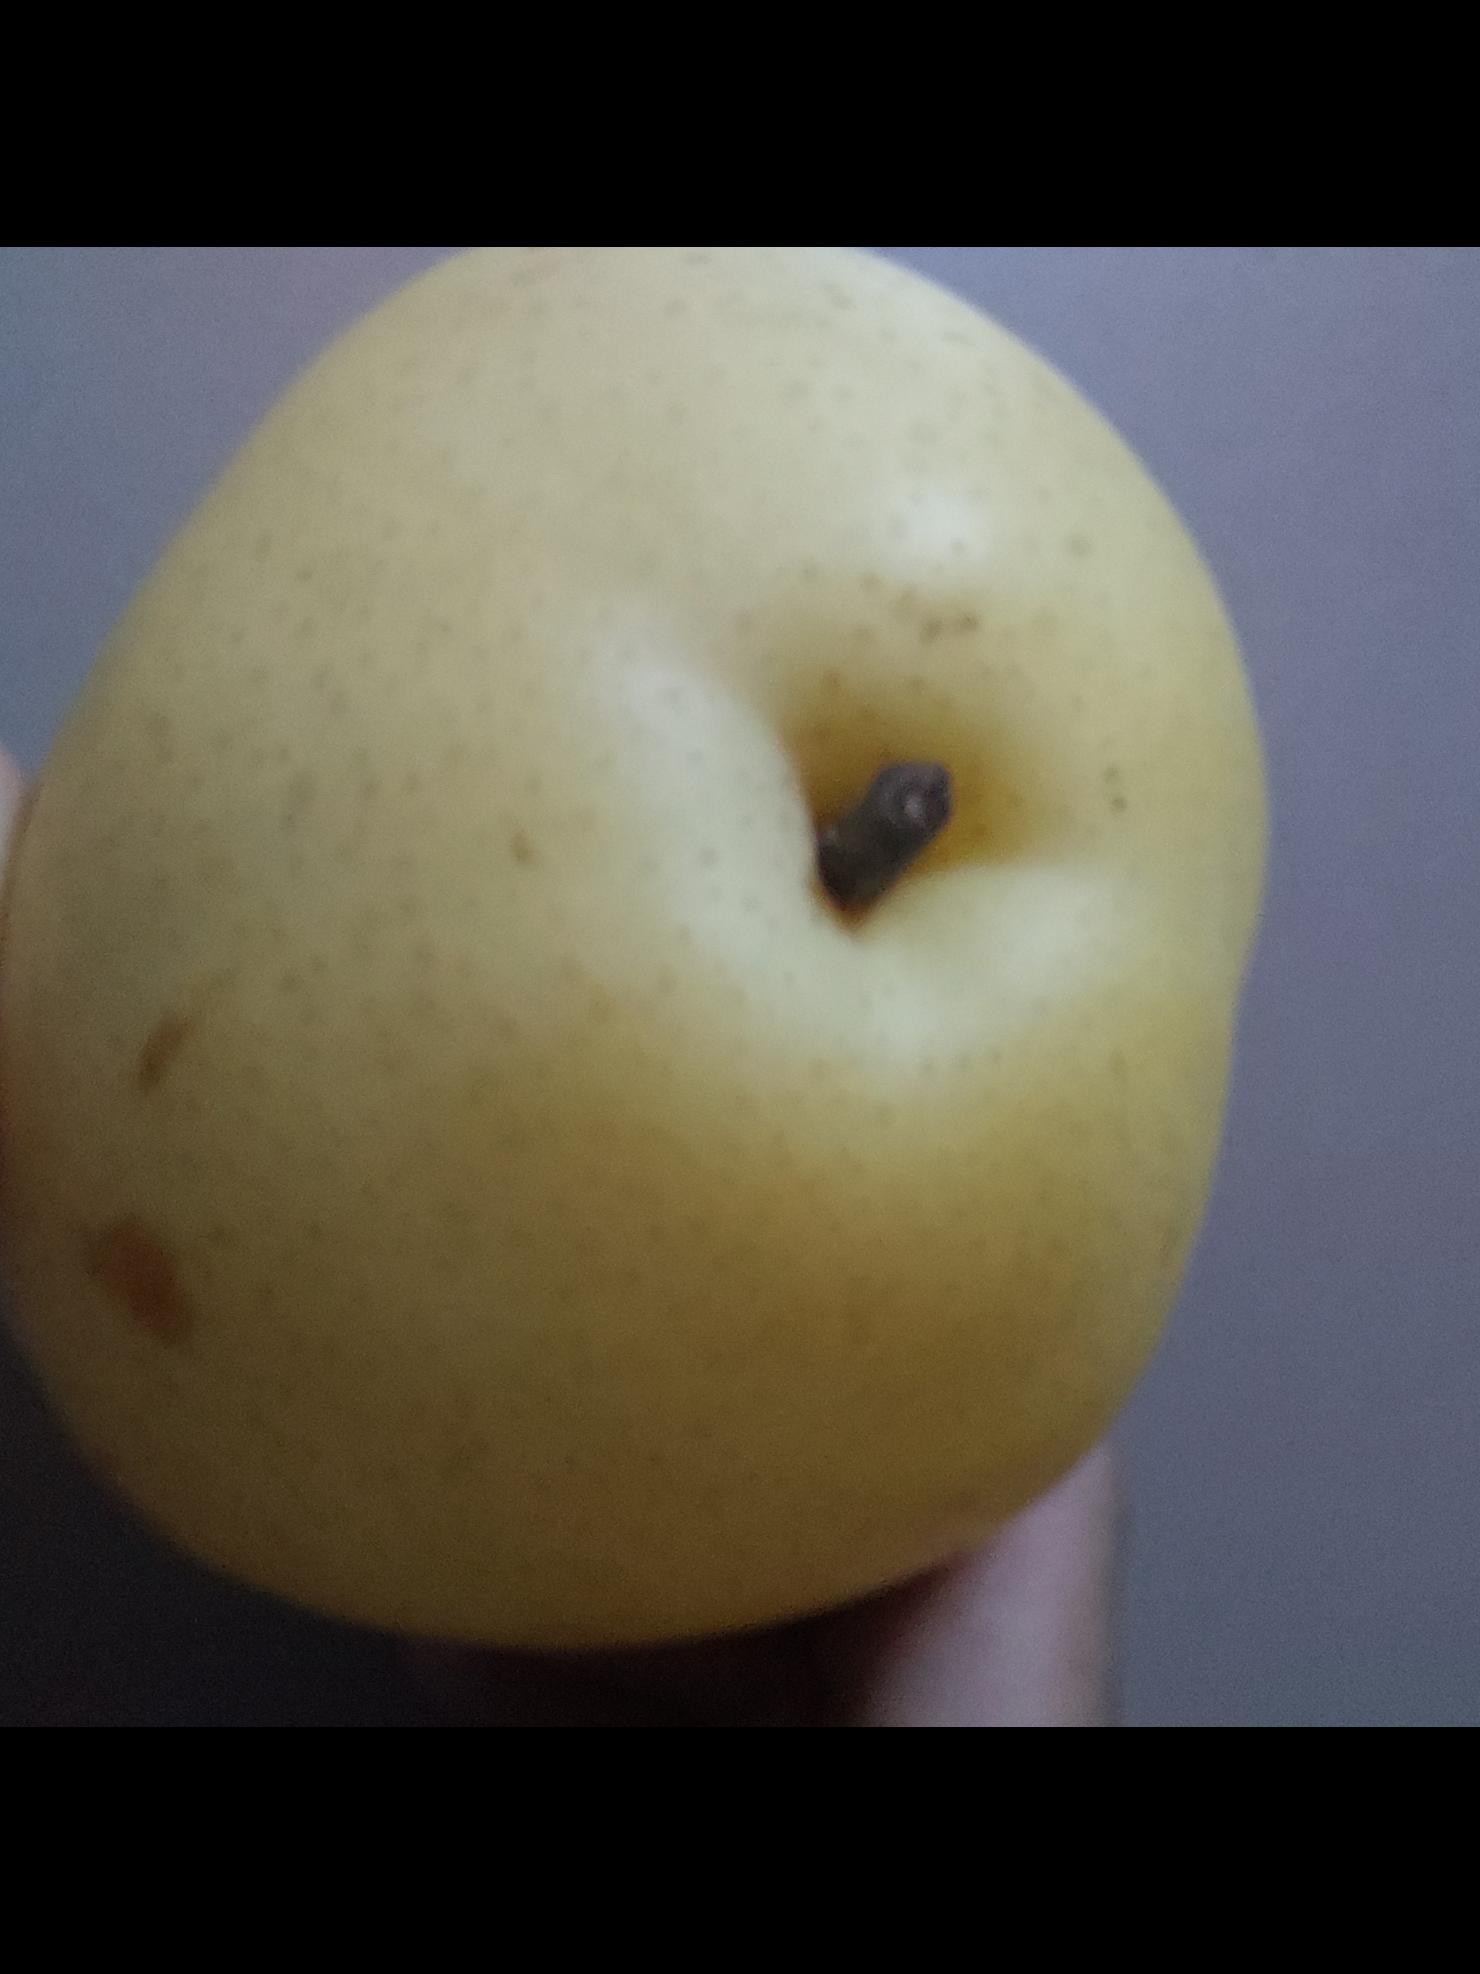Good Pear: (0, 247, 1276, 1685)
